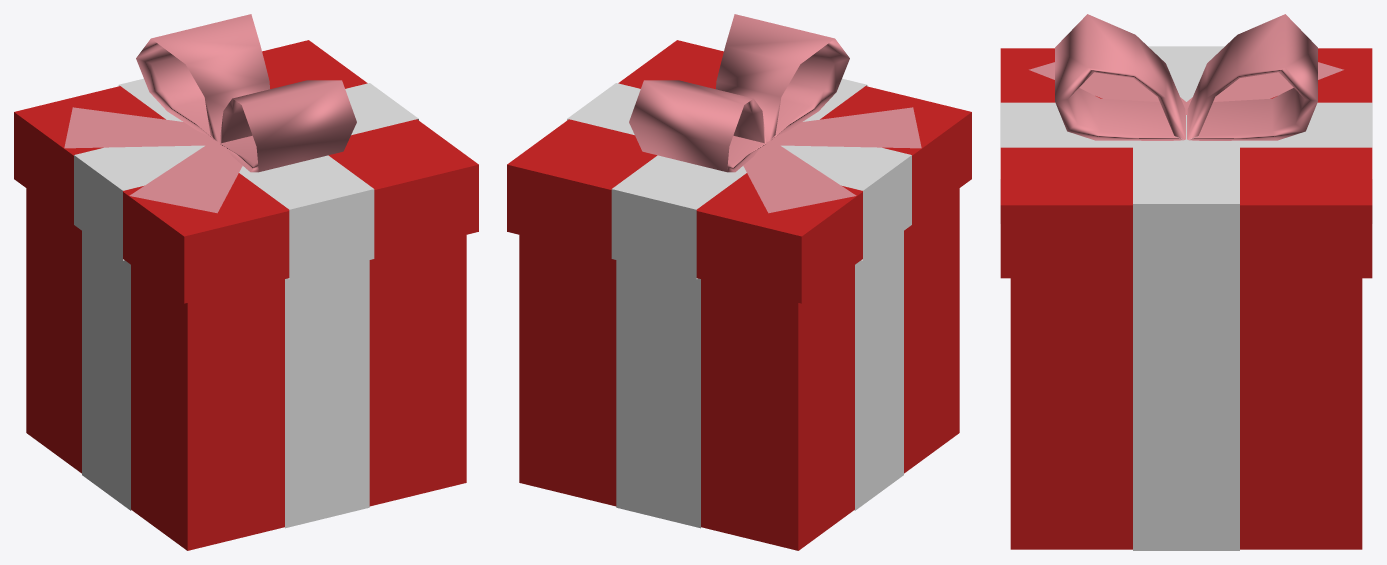
Rendered from present.glb.
3 renders of one model, left to right at view 1: azimuth 30°, elevation 25°; view 2: azimuth 150°, elevation 25°; view 3: azimuth 270°, elevation 25°, orthographic. The views are drawn at different scales.
Visible parts, largest first — view 1: Cube.001 (×3); view 2: Cube.001 (×3); view 3: Cube.001 (×3).
Part boxes in pixels (<box>): Cube.001 (×3): <box>14,14,478,550</box>; Cube.001 (×3): <box>507,14,971,550</box>; Cube.001 (×3): <box>1000,14,1372,550</box>.
Bounding box in the file's own units: 2.13 × 2.73 × 2.12.
